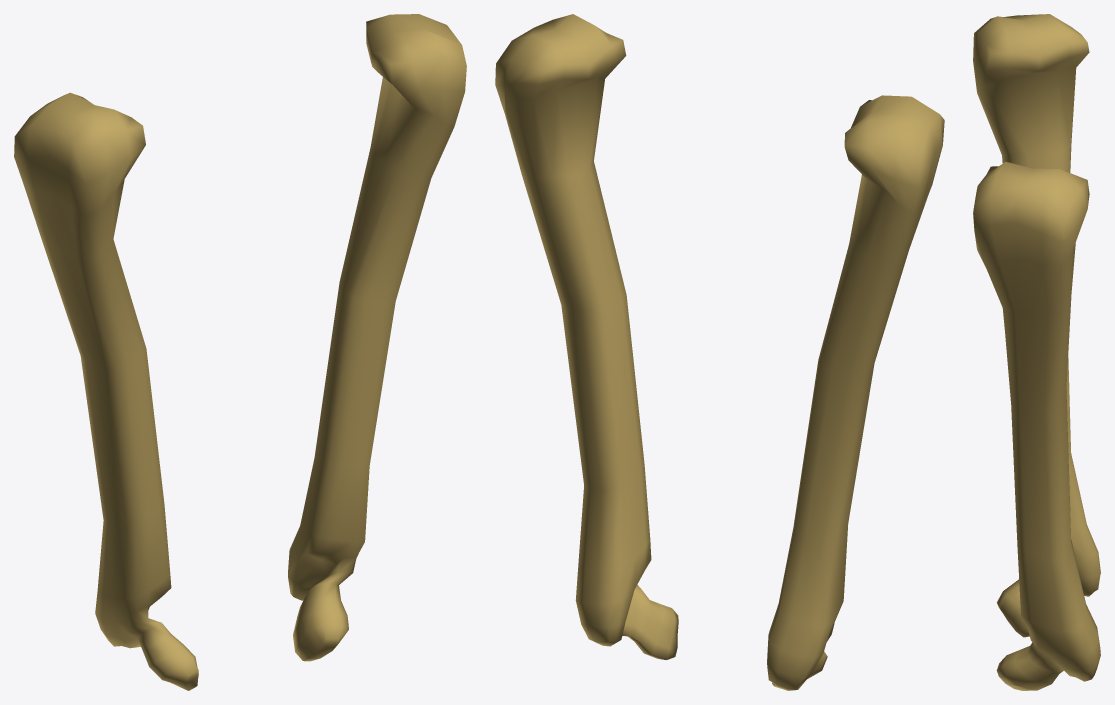
File: Femur.obj
3 views of the same model, side by side, from view 1: azimuth 30°, elevation 25°; view 2: azimuth 150°, elevation 25°; view 3: azimuth 270°, elevation 25° (orthographic). The views are drawn at different scales.
Visible parts, largest first — view 1: Femur; view 2: Femur; view 3: Femur.
Part boxes in pixels (bbox=[...]): Femur: bbox=[14, 14, 466, 690]; Femur: bbox=[495, 14, 944, 690]; Femur: bbox=[973, 14, 1100, 690].
Bounding box in the file's own units: 2.94 × 4.02 × 0.8184.
